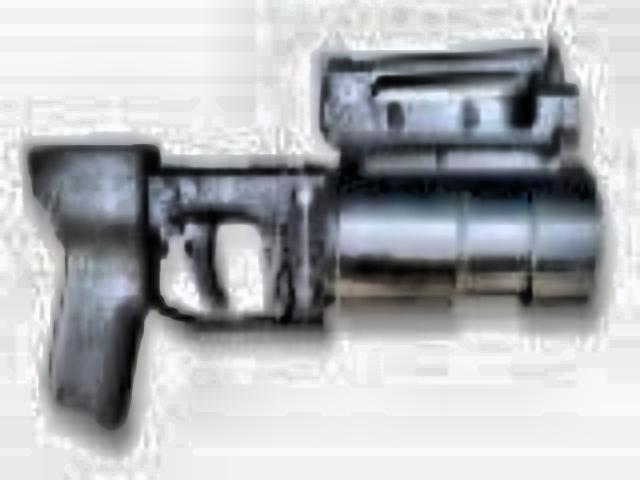pistol: (32, 44, 588, 432)
